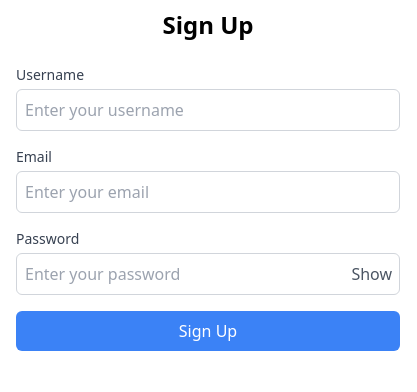
Test: SignUpForm.vue › displays an error message when username is missing
Type "test@example.com" into the field labelled "Email" at (208,192), box [16, 171, 400, 213]
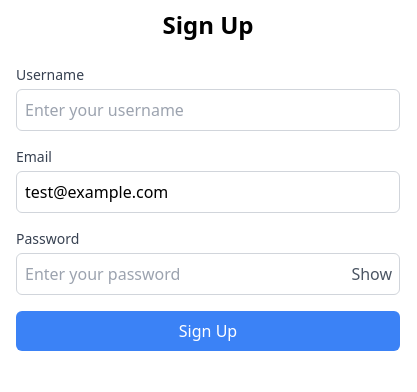
Type "password123" into the password field labelled "Password" at (208,274), box [16, 253, 400, 295]
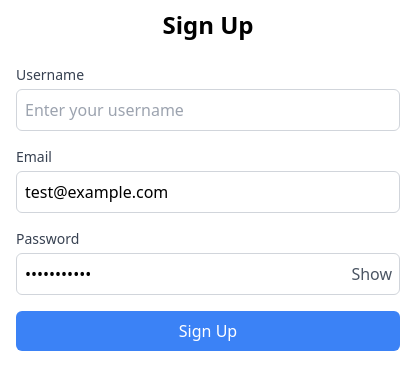
Submit the form
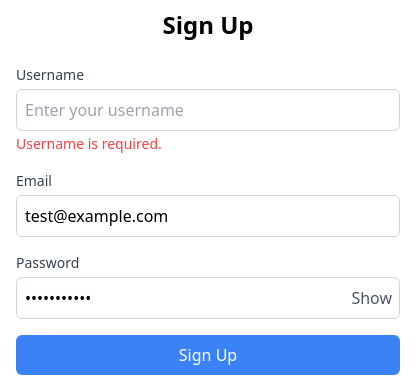
Expected: the text "Username is required." is shown, [16, 134, 162, 153]
